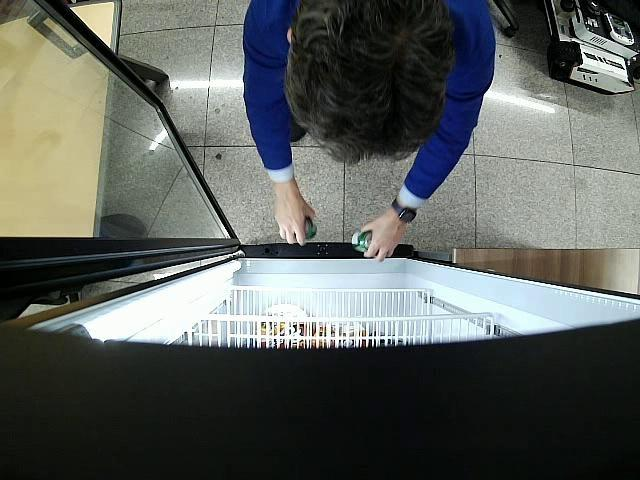12_chilsungCider: (352, 230, 372, 252), (303, 217, 318, 240)
